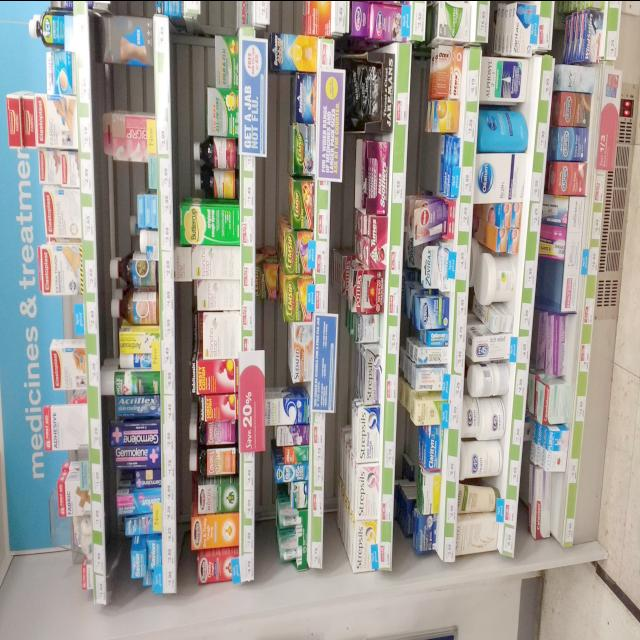empty_space: (110, 72, 150, 96)
